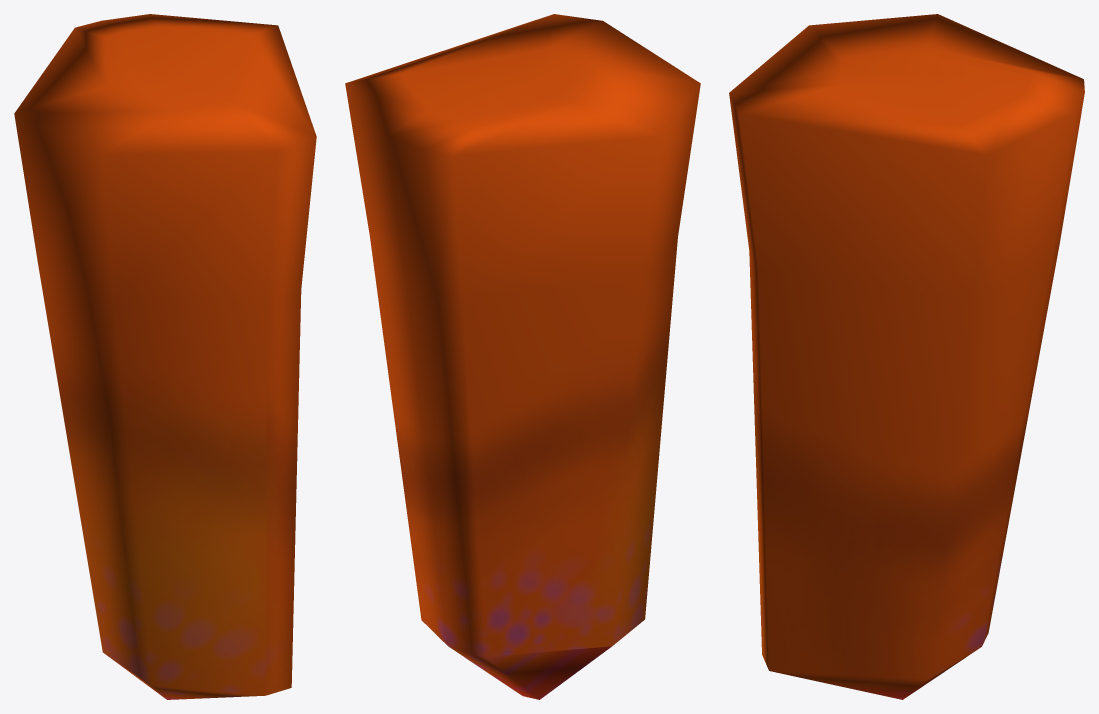
Rendered from akamaru_leg_r.obj.
3 renders of one model, left to right at view 1: azimuth 30°, elevation 25°; view 2: azimuth 150°, elevation 25°; view 3: azimuth 270°, elevation 25°, orthographic.
Parts seen in each view (by area): view 1: RED_LEG_R; view 2: RED_LEG_R; view 3: RED_LEG_R.
Part boxes in pixels (box(x1,y1,x2,y2)): RED_LEG_R: box(14, 14, 316, 699); RED_LEG_R: box(345, 14, 700, 699); RED_LEG_R: box(729, 14, 1084, 699).
Bounding box in the file's own units: 0.2877 × 0.5887 × 0.3061.
1 material, 1 textured.
